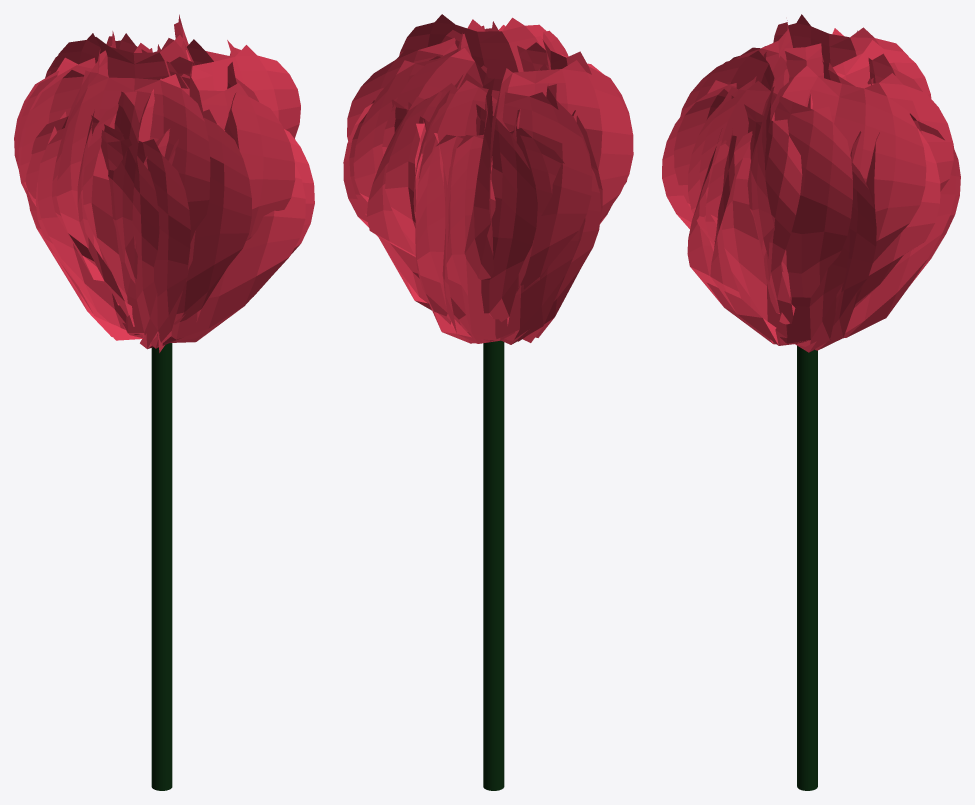
Rendered from rose.fbx.
The picture shows the model from 3 angles, left to right: view 1: azimuth 30°, elevation 25°; view 2: azimuth 150°, elevation 25°; view 3: azimuth 270°, elevation 25°; orthographic projection.
Visible parts, largest first — view 1: Circle, Circle.001, Circle.002, Circle.004, Circle.003, Cylinder; view 2: Circle, Circle.001, Circle.002, Circle.003, Circle.004, Cylinder; view 3: Circle, Circle.001, Circle.002, Circle.003, Circle.004, Cylinder.
Boxes of the visible parts, left/top/right/bottom form: Circle: left=45, top=14, right=300, bottom=284; Circle.001: left=18, top=31, right=295, bottom=294; Circle.002: left=14, top=43, right=295, bottom=326; Circle.004: left=25, top=116, right=305, bottom=352; Circle.003: left=35, top=50, right=314, bottom=348; Cylinder: left=151, top=343, right=172, bottom=790; Circle: left=353, top=14, right=633, bottom=279; Circle.001: left=347, top=19, right=602, bottom=289; Circle.002: left=366, top=25, right=627, bottom=325; Circle.003: left=343, top=99, right=602, bottom=343; Circle.004: left=369, top=65, right=585, bottom=344; Cylinder: left=483, top=340, right=504, bottom=790; Circle: left=680, top=14, right=931, bottom=271; Circle.001: left=688, top=28, right=953, bottom=297; Circle.002: left=662, top=47, right=940, bottom=324; Circle.003: left=710, top=128, right=953, bottom=350; Circle.004: left=687, top=113, right=960, bottom=352; Cylinder: left=797, top=345, right=817, bottom=790.
Size of the model in its own units: 277 by 786 by 288.
